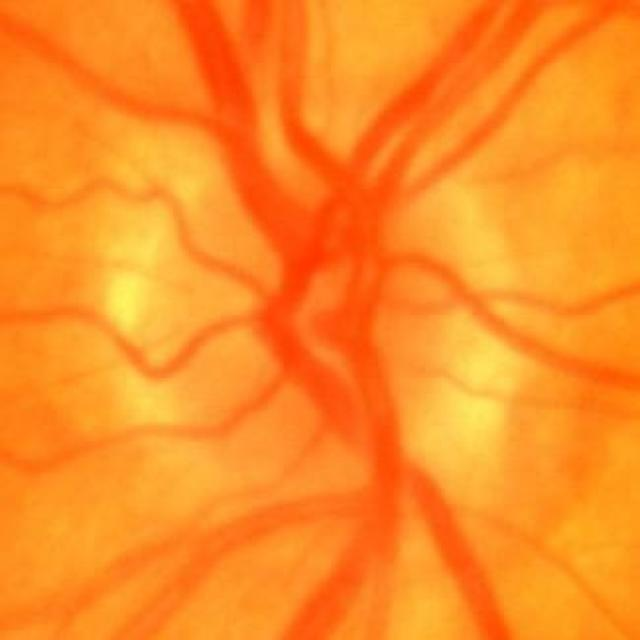OC: (233, 267, 360, 384)
OD: (111, 135, 516, 514)
